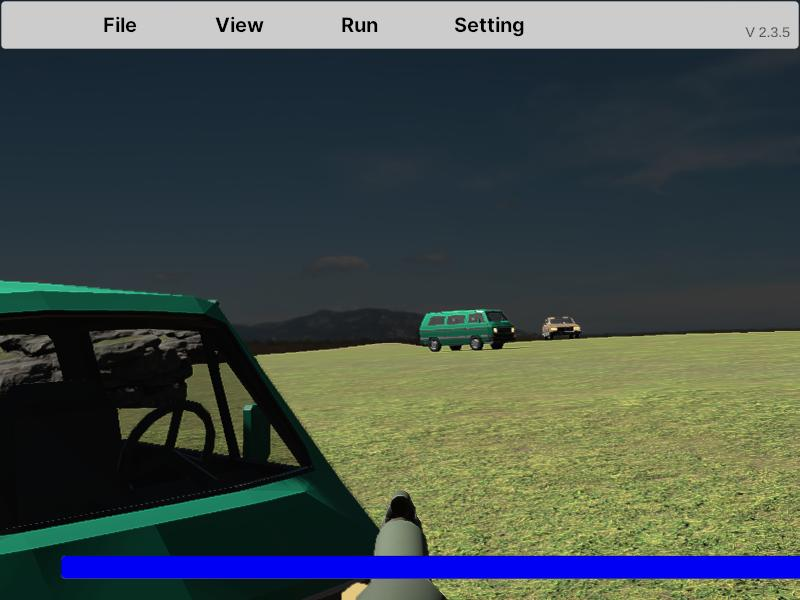car: (418, 309, 515, 352), (542, 316, 581, 341)
